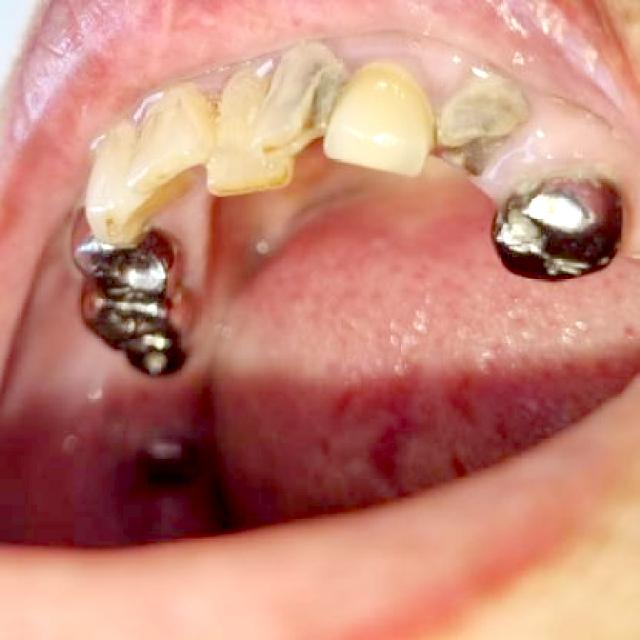Plaque: (430, 74, 529, 172), (290, 54, 355, 145)
